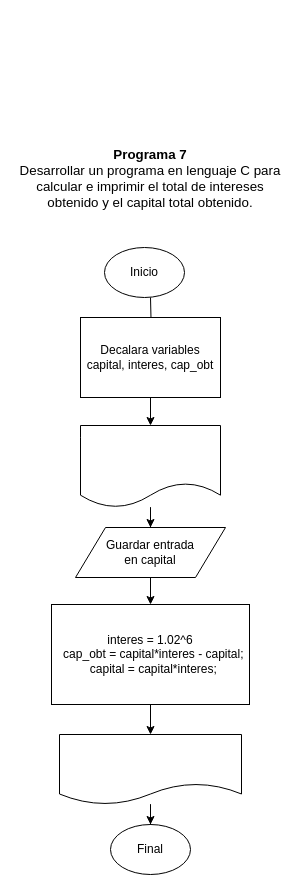
Some shapes in this 300 by 892 pixel diagram are drawn without their labels. The box of each missing label's shape, as (x1, y1, x2, y2) in pixels:
"Ingresar numero el capital invertido": (80, 424, 220, 508)
interes, cap_obt: (58, 734, 242, 804)
